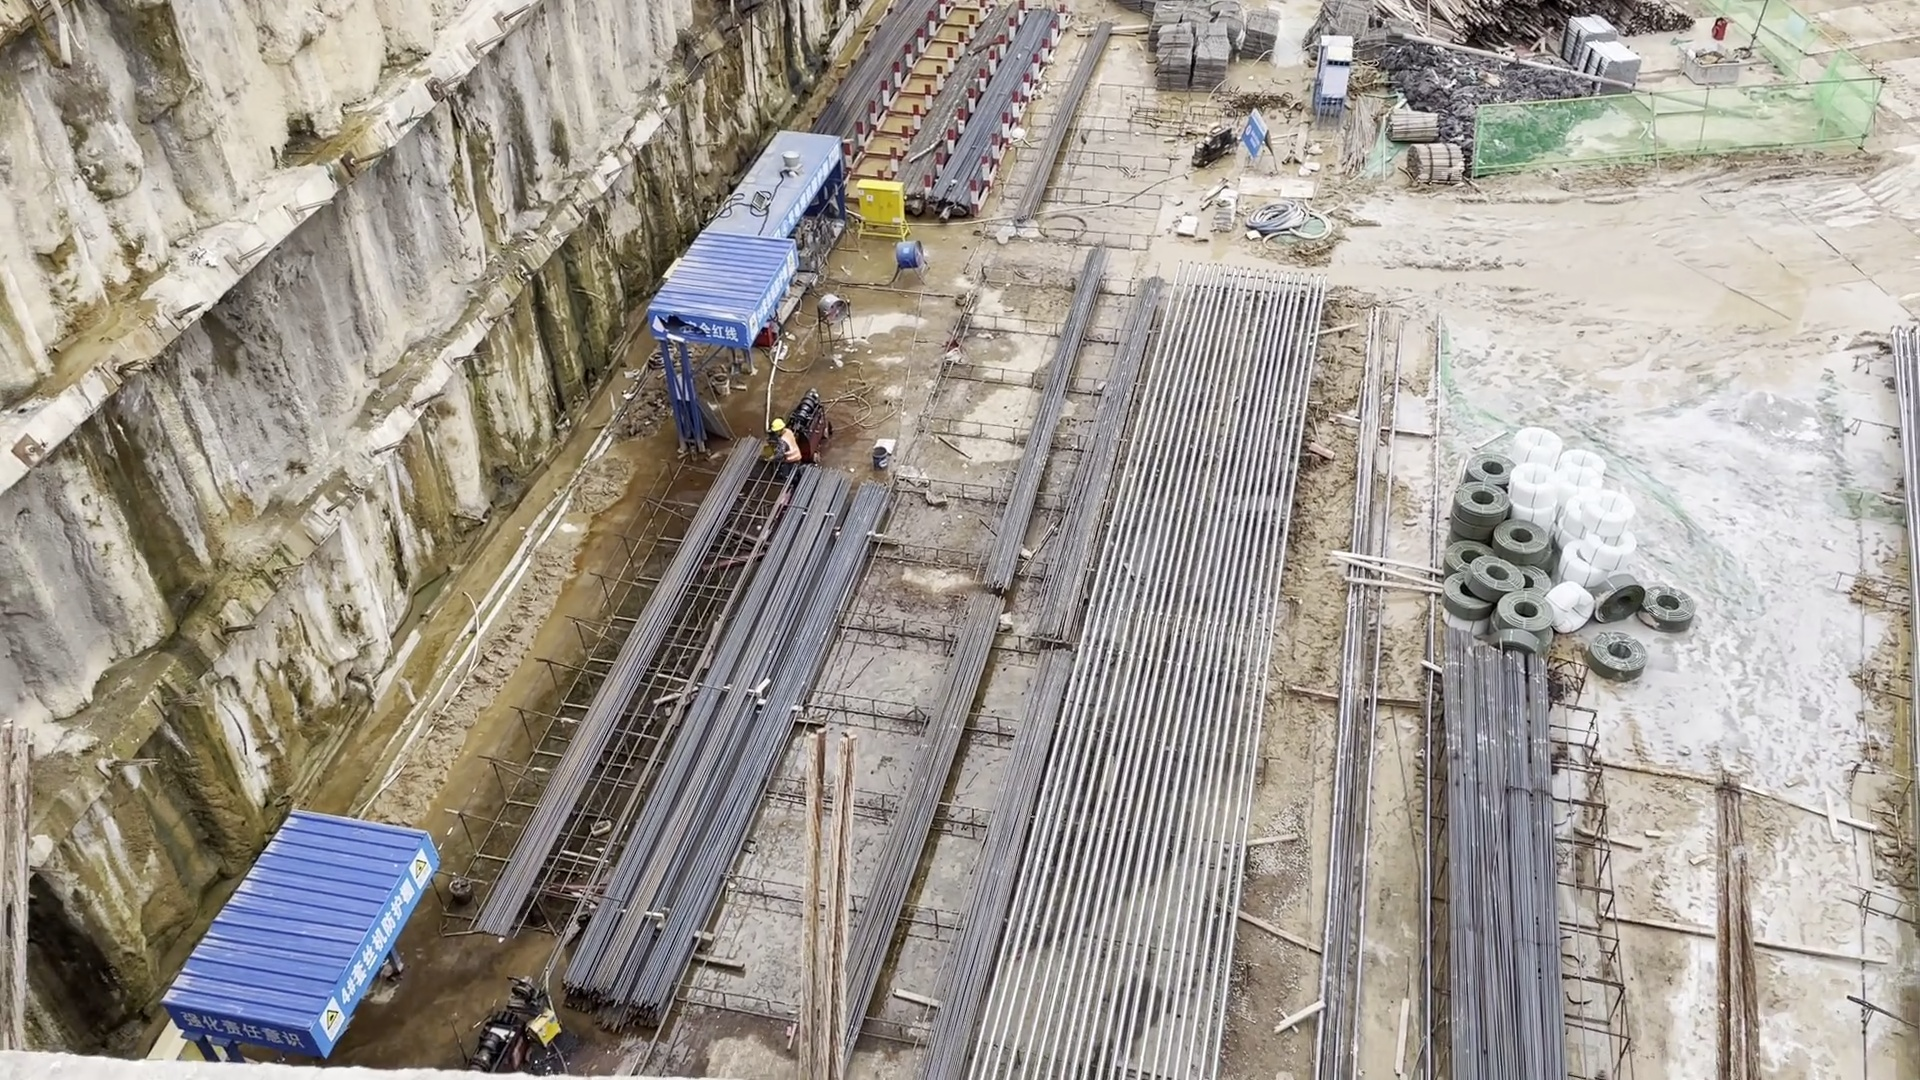brick: (1564, 17, 1636, 95)
cutter: (506, 978, 541, 1013)
ebox: (847, 181, 907, 237), (530, 1015, 563, 1044)
helmet: (769, 415, 785, 431)
rebar: (1031, 277, 1349, 1076), (526, 463, 832, 990), (1440, 651, 1572, 1080), (899, 1, 1065, 225)
slogan: (178, 1005, 314, 1051), (654, 313, 744, 349)
vest: (779, 431, 800, 462)
